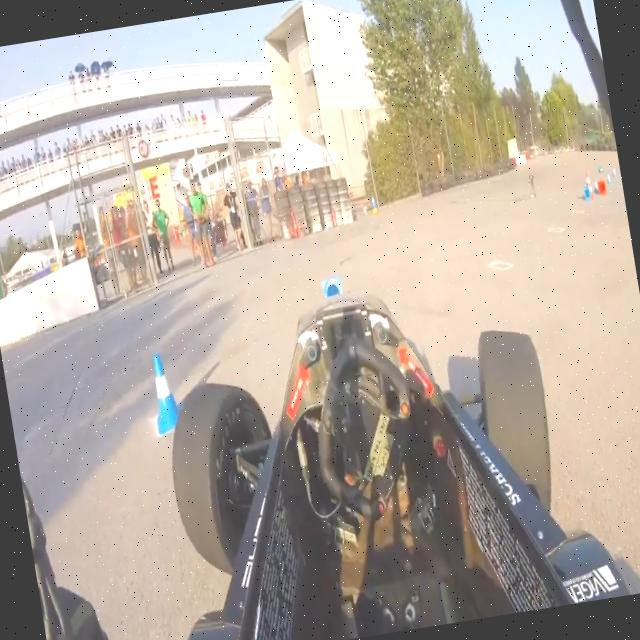blue_cone: (140, 348, 187, 439), (314, 270, 346, 302)
